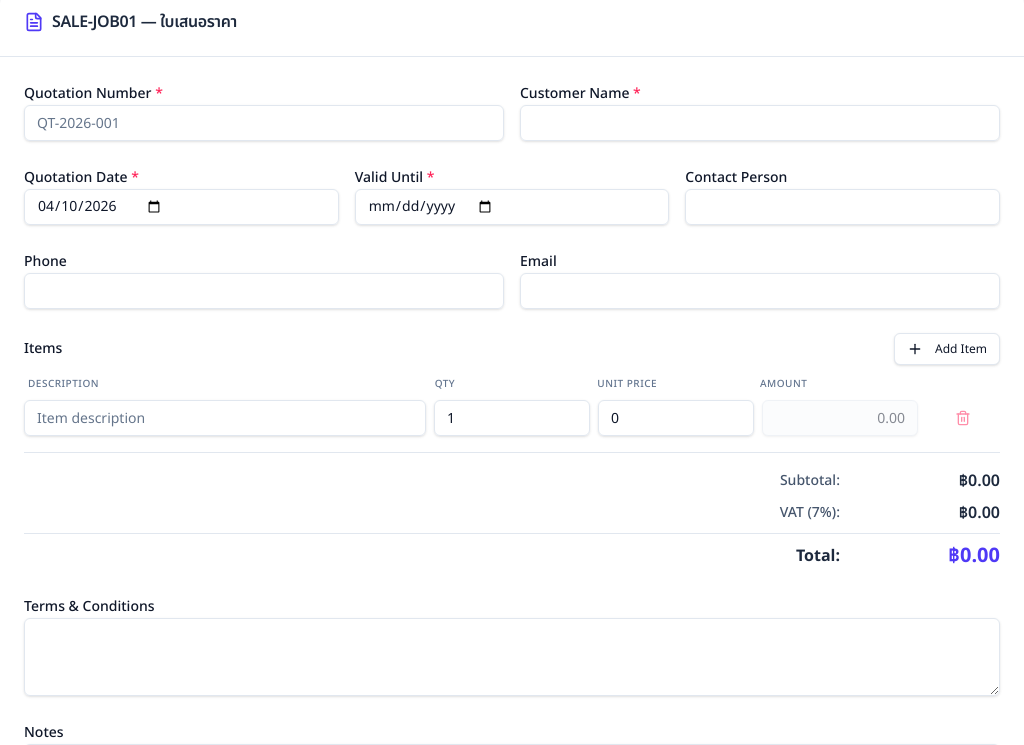
Test case: FormSaleQuotationPage › resets form when Reset button clicked
Type "QT-TEST" into the field labelled "Quotation Number *" at (264, 123), box x1=24 y1=105 x2=504 y2=141
(page scrolled)
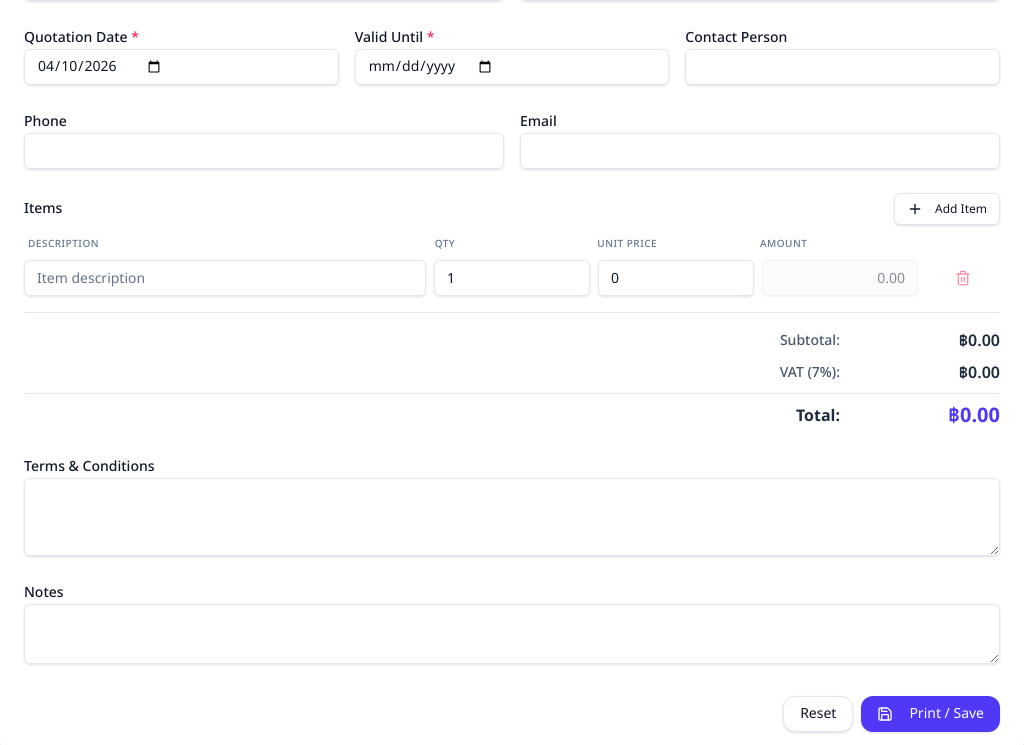
Click the button "Reset" at (818, 714), box x1=783 y1=696 x2=853 y2=732
(page scrolled)
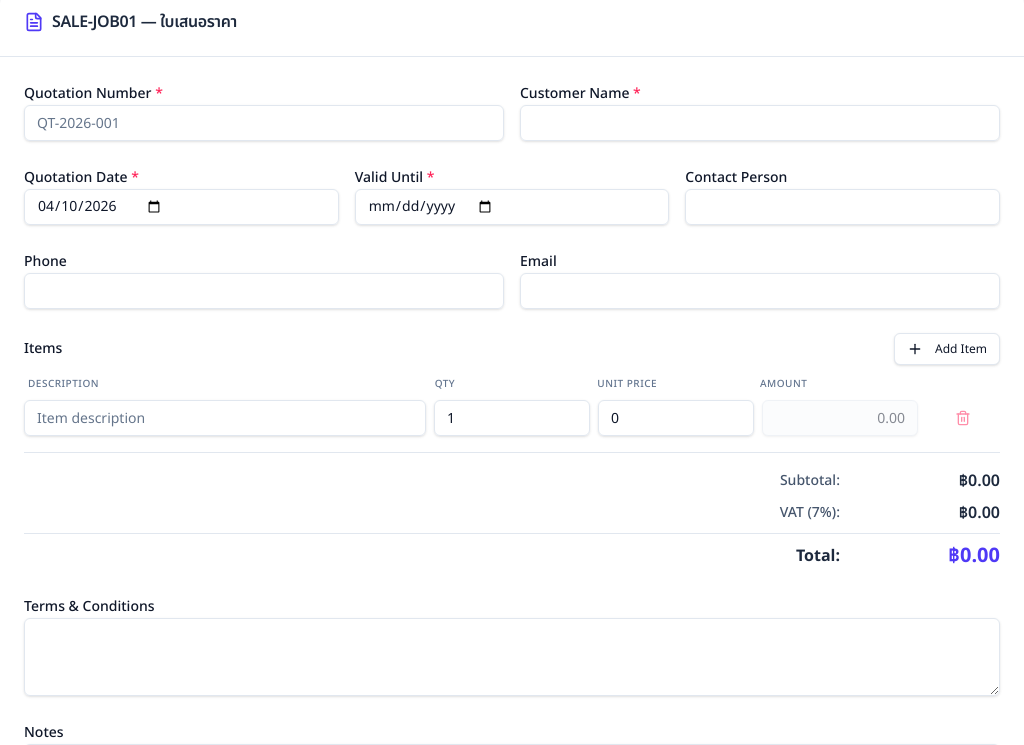
Now the field labelled "Quotation Number *" is empty, box x1=24 y1=105 x2=504 y2=141
